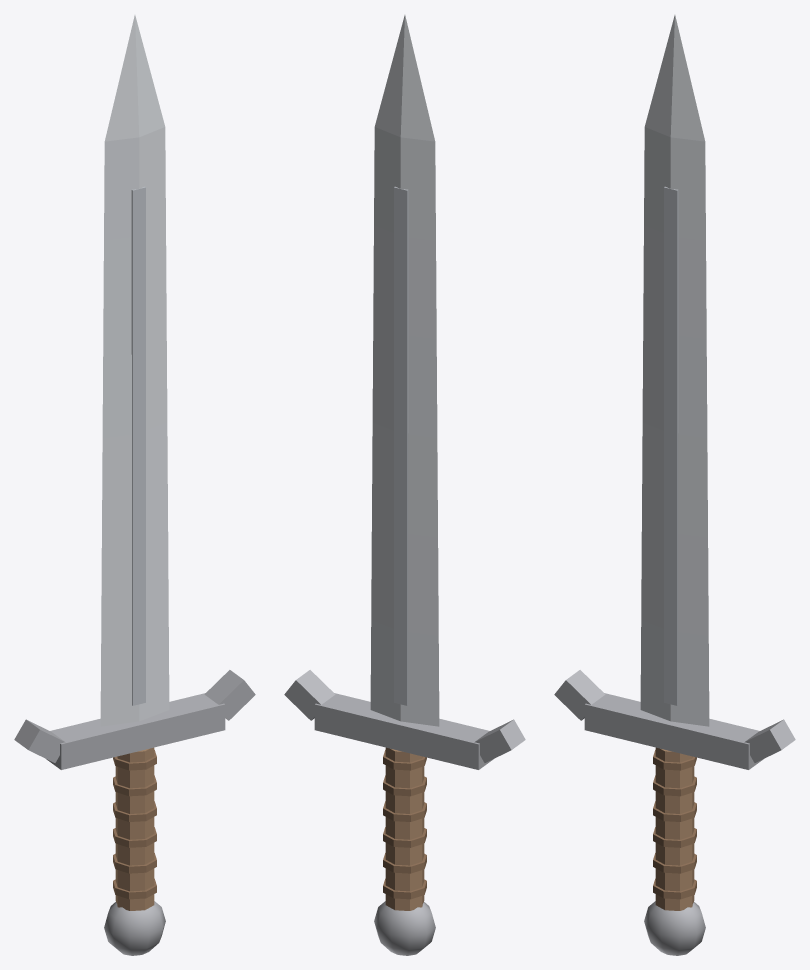
The model's file is Sword_Steel.gltf.
3 views of the same model, side by side, from view 1: azimuth 30°, elevation 25°; view 2: azimuth 150°, elevation 25°; view 3: azimuth 330°, elevation 25° (orthographic).
Visible parts, largest first — view 1: Sword_Steel; view 2: Sword_Steel; view 3: Sword_Steel.
Part boxes in pixels (x1,y1,x2,y2): Sword_Steel: [14, 15, 255, 955]; Sword_Steel: [284, 15, 525, 955]; Sword_Steel: [554, 15, 795, 955].
Bounding box in the file's own units: 0.2771 × 1.09 × 0.06.
